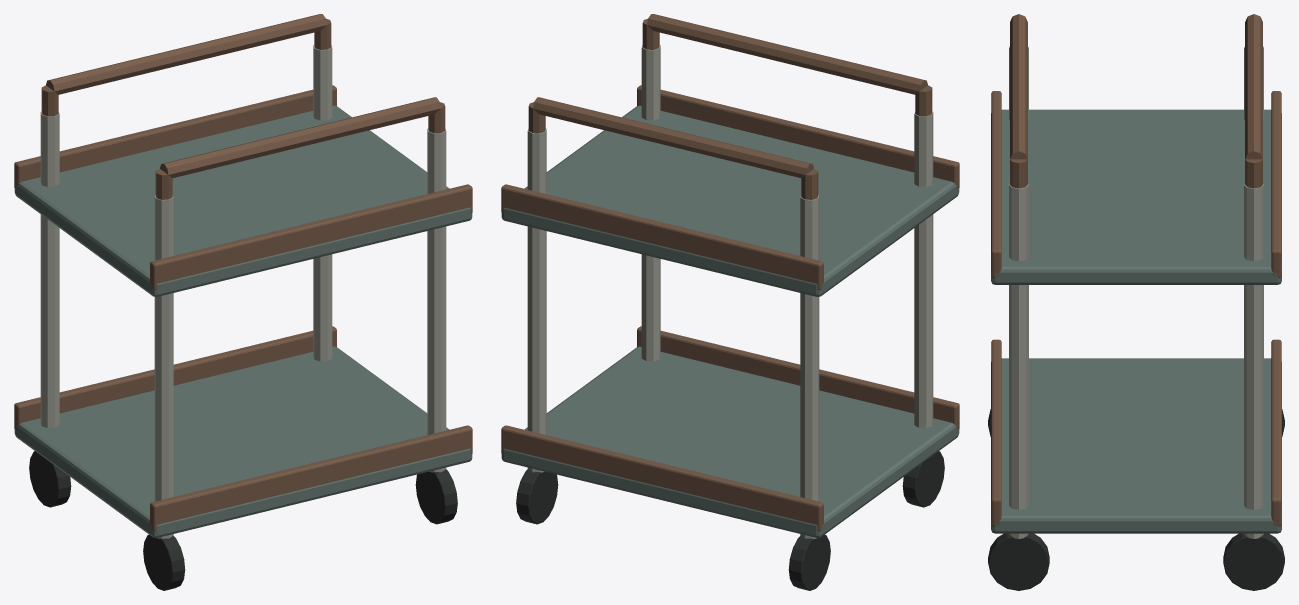
Rendered from trolley.glb.
3 renders of one model, left to right at view 1: azimuth 30°, elevation 25°; view 2: azimuth 150°, elevation 25°; view 3: azimuth 270°, elevation 25°, orthographic. The views are drawn at different scales.
Visible parts, largest first — view 1: trolley; view 2: trolley; view 3: trolley.
Boxes of the visible parts, x1,y1,x2,y2 form: trolley: [14, 14, 472, 590]; trolley: [501, 14, 959, 590]; trolley: [988, 14, 1284, 590].
Size of the model in its own units: 0.68 by 0.861 by 0.53.
